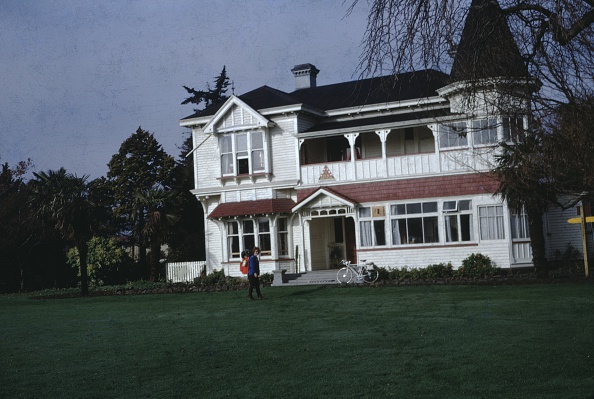em pe: (241, 247, 262, 306)
